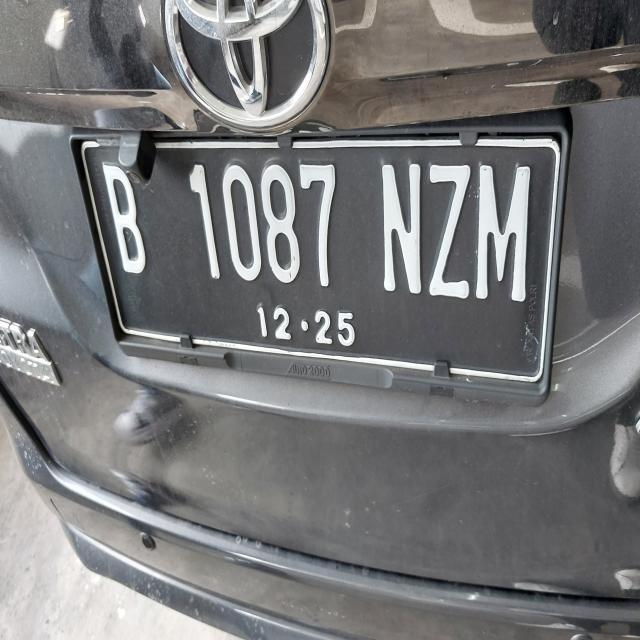0: (216, 154, 271, 302)
1: (177, 152, 230, 304)
7: (294, 147, 362, 321)
8: (256, 155, 314, 296)
B: (94, 160, 162, 293)
M: (474, 146, 546, 325)
N: (374, 154, 429, 318)
Z: (422, 143, 477, 304)
